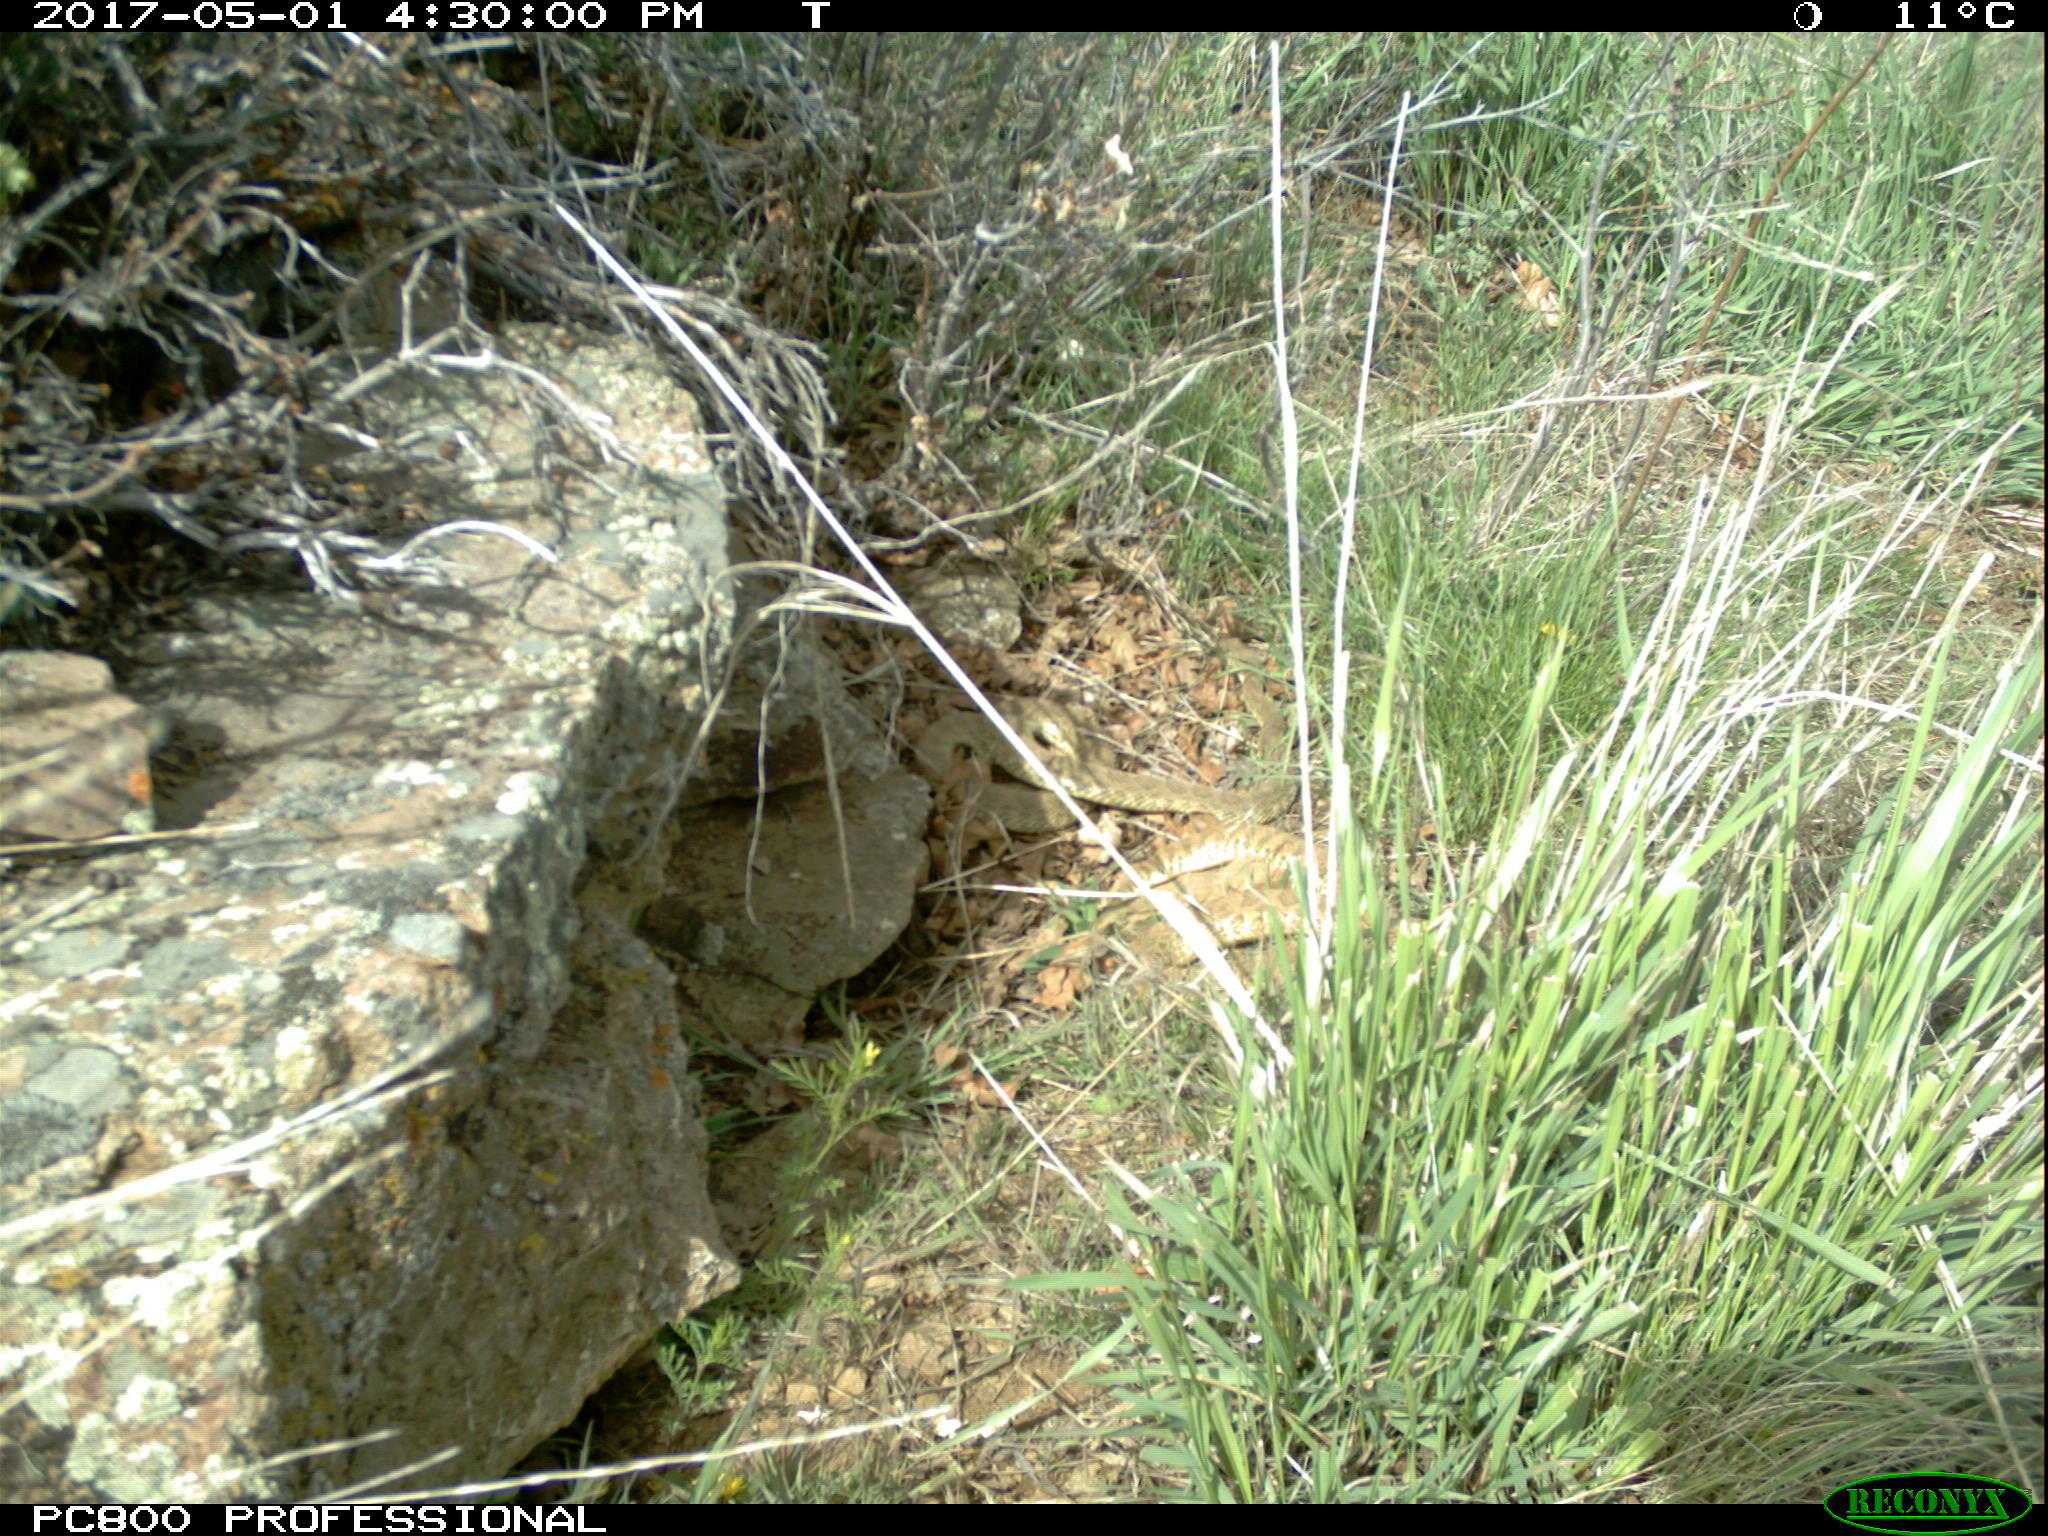snake: (914, 703, 1309, 829), (1059, 829, 1335, 963)
